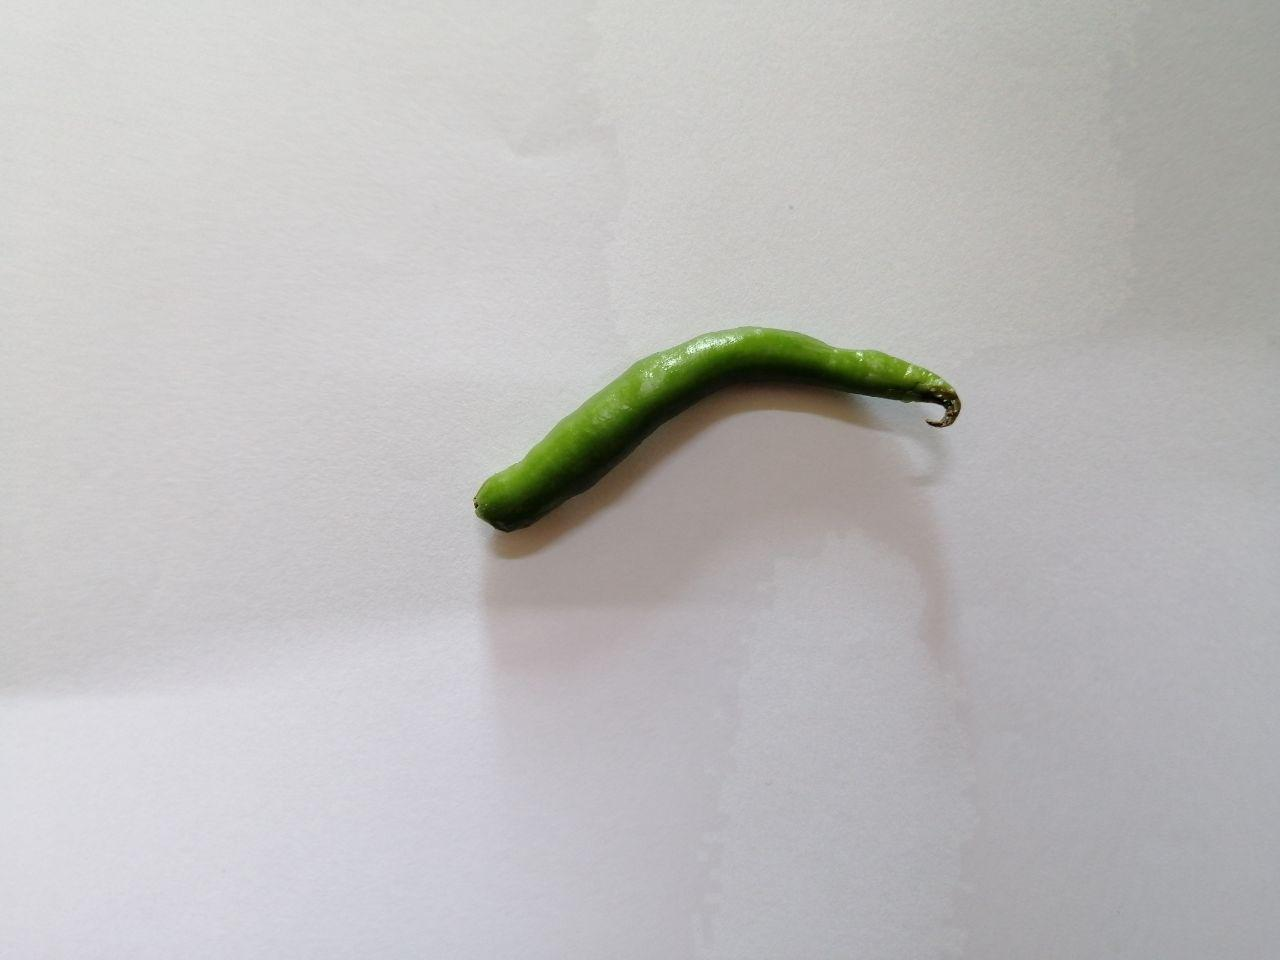lada hijau: (460, 272, 975, 586)
